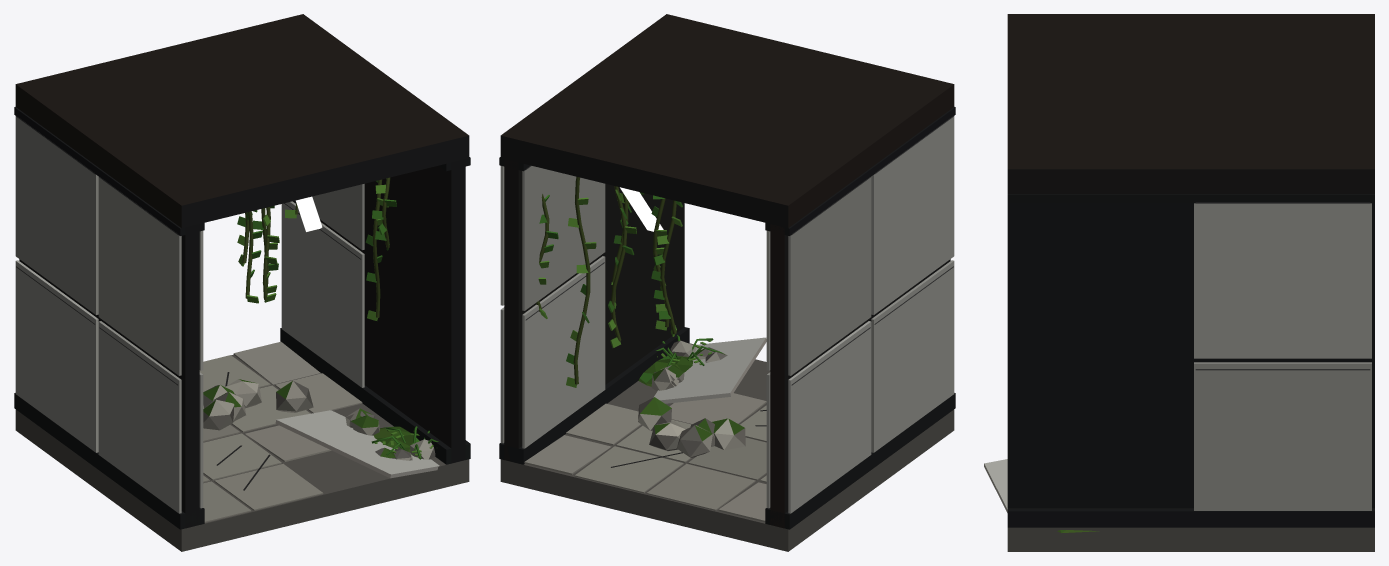
Rendered from kit_hallway_broken.glb.
3 views of the same model, side by side, from view 1: azimuth 30°, elevation 25°; view 2: azimuth 150°, elevation 25°; view 3: azimuth 270°, elevation 25° (orthographic). The views are drawn at different scales.
Visible parts, largest first — view 1: Mesh; view 2: Mesh; view 3: Mesh.
Part boxes in pixels (bbox=[...]): Mesh: bbox=[14, 14, 470, 551]; Mesh: bbox=[499, 14, 955, 551]; Mesh: bbox=[984, 14, 1374, 551].
Bounding box in the file's own units: 4.07 × 4.6 × 4.26.
